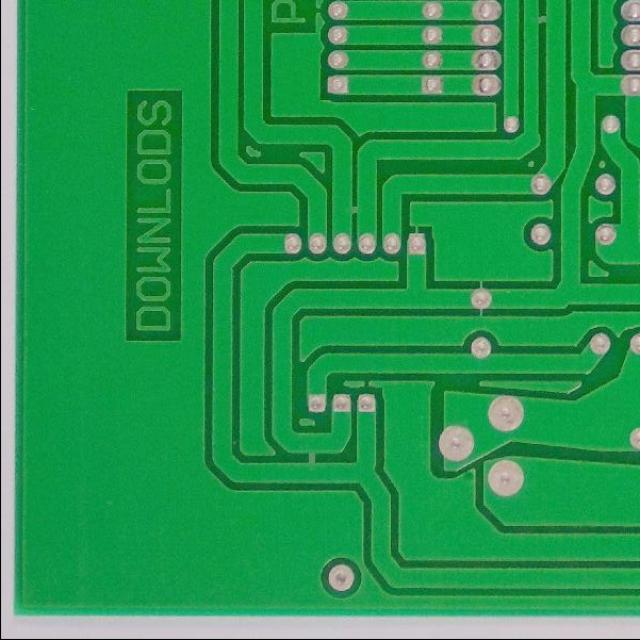short: (286, 430, 336, 479), (520, 2, 562, 44), (332, 193, 374, 230)
